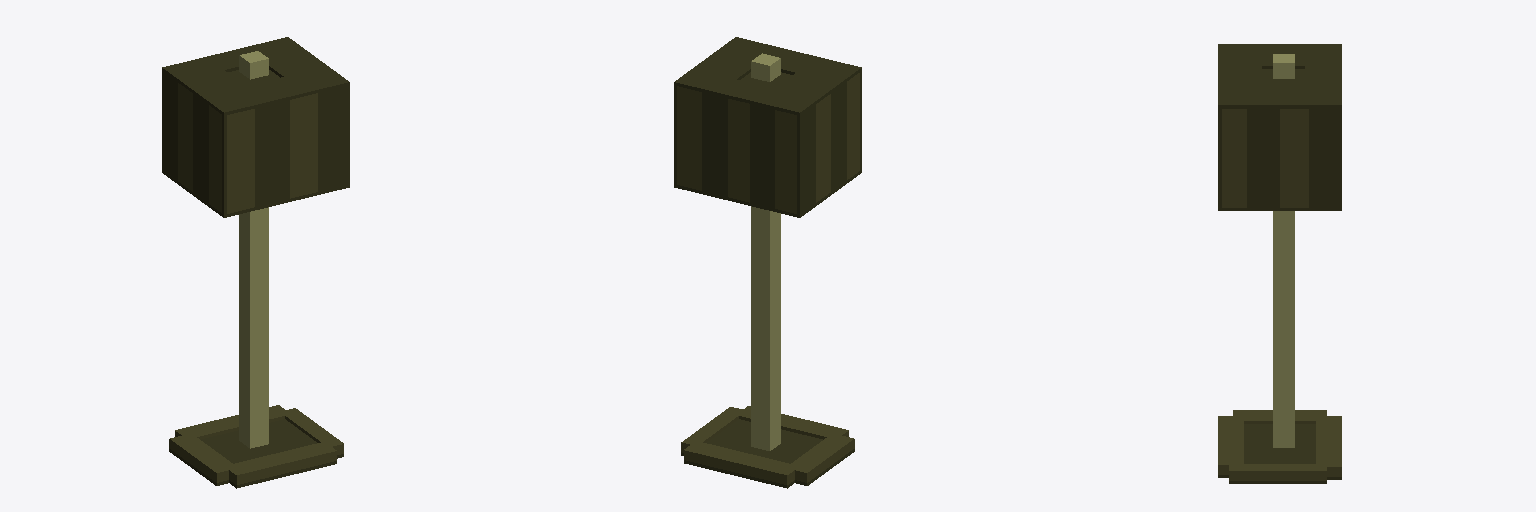
3 views of the same model, side by side, from view 1: azimuth 30°, elevation 25°; view 2: azimuth 150°, elevation 25°; view 3: azimuth 270°, elevation 25° (orthographic).
Visible parts, largest first — view 1: Office_Misc_Phone; view 2: Office_Misc_Phone; view 3: Office_Misc_Phone.
Boxes of the visible parts, box(x1,y1,x2,y2) form: Office_Misc_Phone: box(162, 37, 349, 488); Office_Misc_Phone: box(674, 37, 861, 488); Office_Misc_Phone: box(1218, 44, 1341, 483).
Bounding box in the file's own units: 4 × 12 × 3.4.
1 materials, 1 textured.